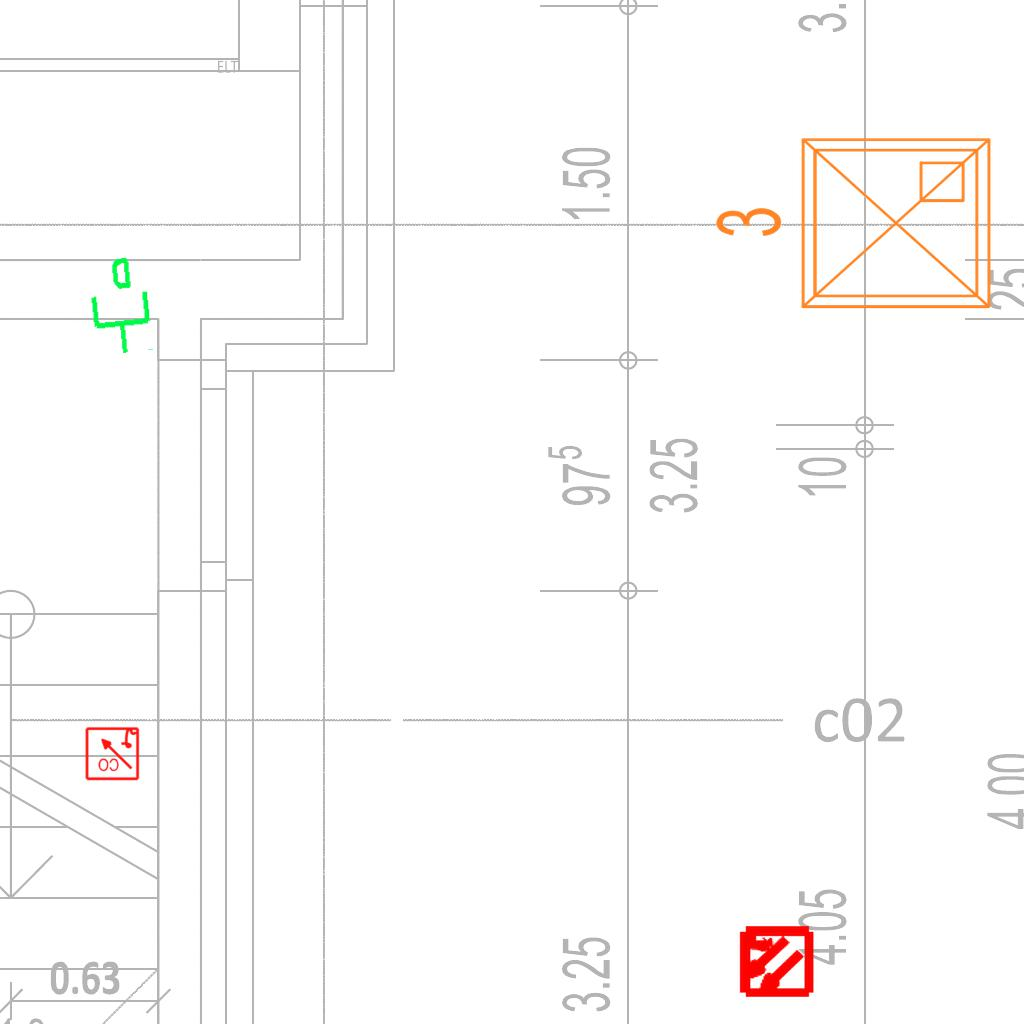Datenanschluss_einfach: (78, 252, 159, 360)
Einbaudownlights_LED_Konferenzraeume: (705, 123, 1005, 331)
OT_Multisensormelder_(Kombination_RMO_WMD): (718, 905, 831, 1018)
ROA_Rauchmelder_optisch_mit_Signalgeber_(Sockelsirene): (84, 725, 140, 781)
